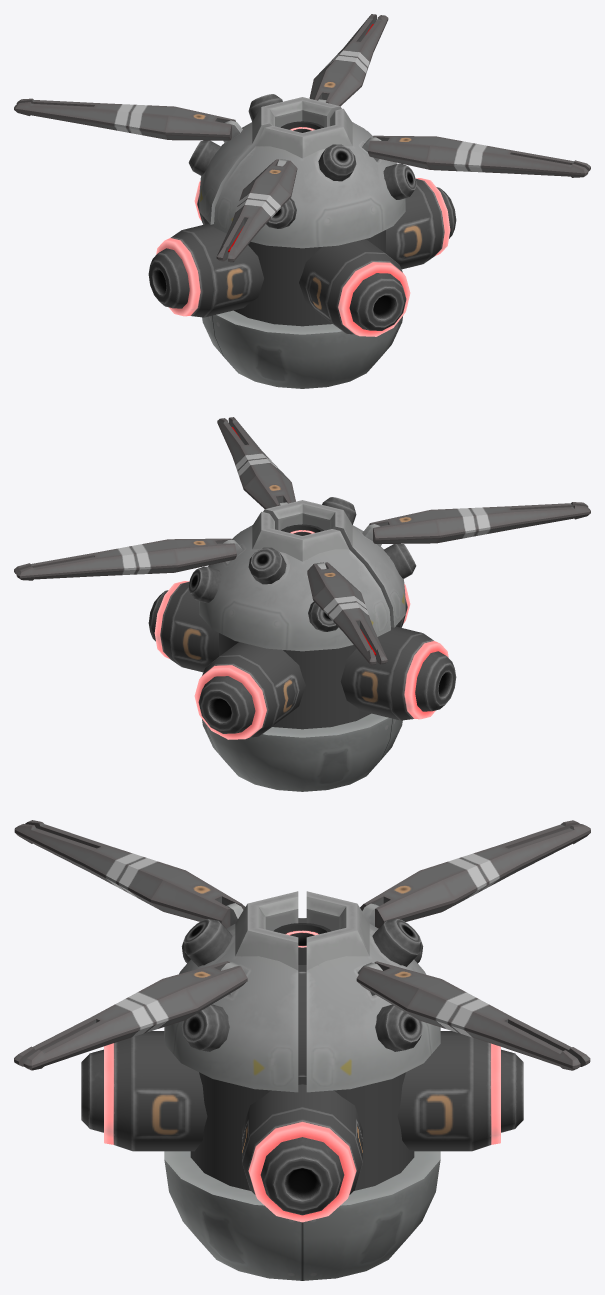
Rendered from IG_Helmat_Roadblock.fbx.
3 renders of one model, top to bottom at view 1: azimuth 30°, elevation 25°; view 2: azimuth 150°, elevation 25°; view 3: azimuth 270°, elevation 25°, orthographic. The views are drawn at different scales.
Parts seen in each view (by area): view 1: Roadblock; view 2: Roadblock; view 3: Roadblock.
Part boxes in pixels (<box>): Roadblock: <box>14,14,590,388</box>; Roadblock: <box>14,417,590,791</box>; Roadblock: <box>14,820,590,1280</box>.
Bounding box in the file's own units: 1.54 × 0.9652 × 1.54.
